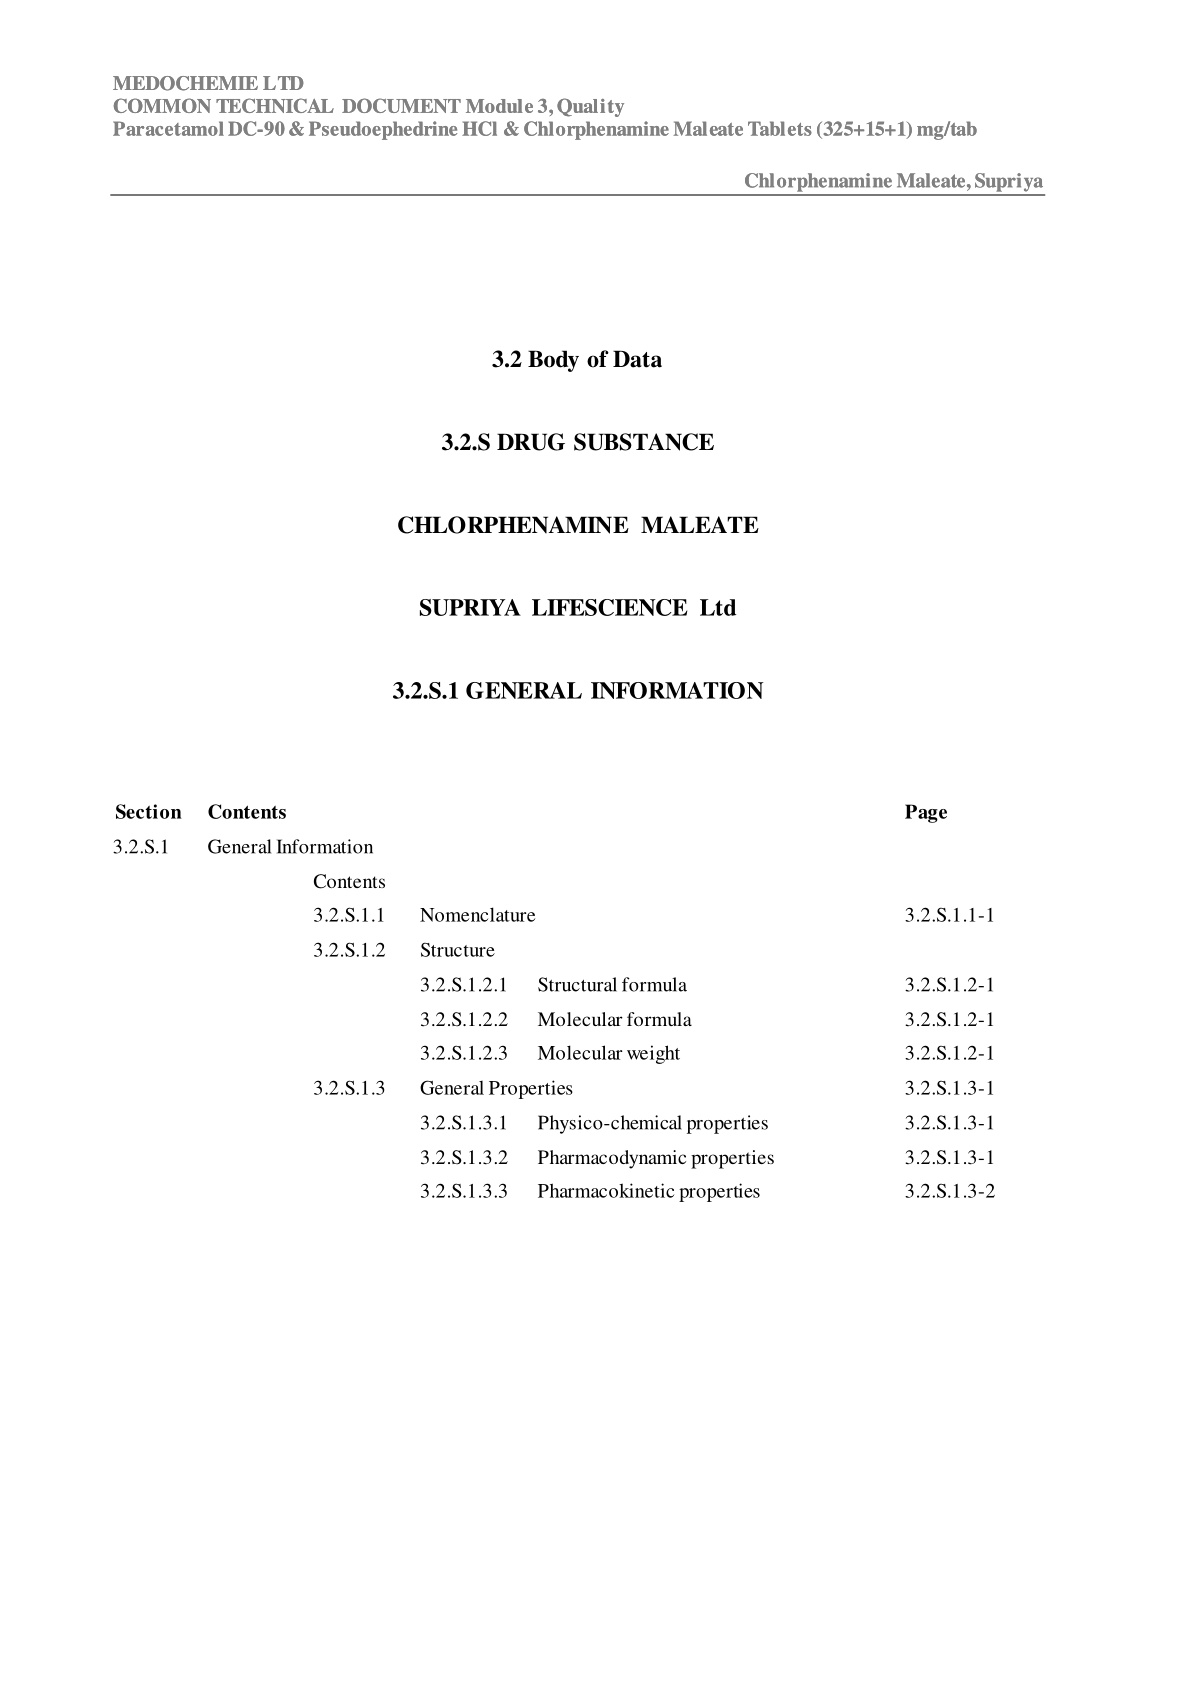nolines: (110, 801, 999, 1203)
